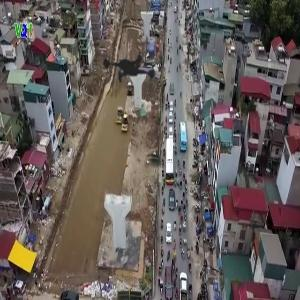drone: (78, 20, 185, 127)
